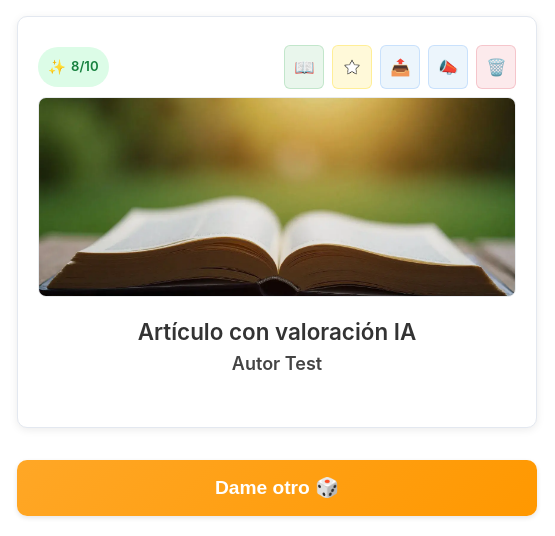
Test case: RandomArticle - Valoración IA › muestra el badge de valoración; el popover aparece al hacer clic y se cierra al volver a clicar
Expected: the text "Encaja con tus temas favoritos" is not shown
# Al clicar aparece el popover con la razón
Click the button named "Nota IA: 8 de 10" at (73, 67), box [38,47,108,87]
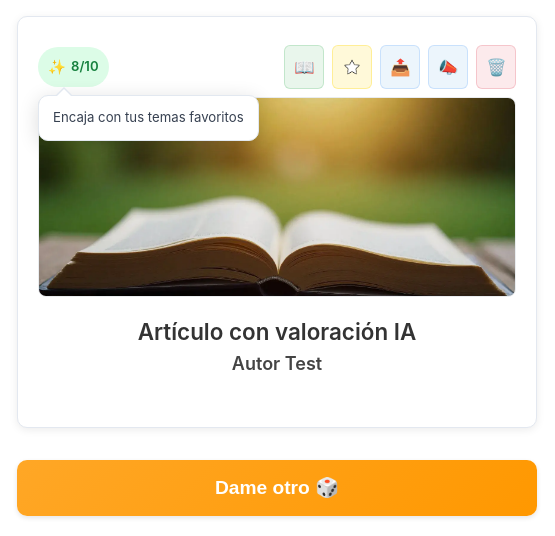
Now the text "Encaja con tus temas favoritos" is shown, box [53,108,244,128]
# Al clicar de nuevo se cierra
Click the button named "Nota IA: 8 de 10" at (73, 67), box [38,47,108,87]
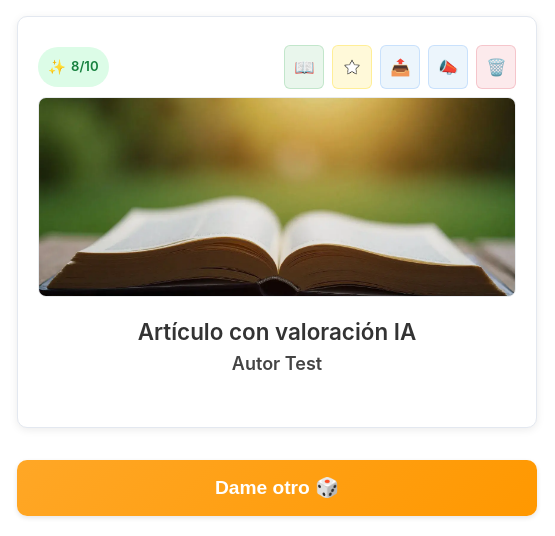
Now the text "Encaja con tus temas favoritos" is gone
